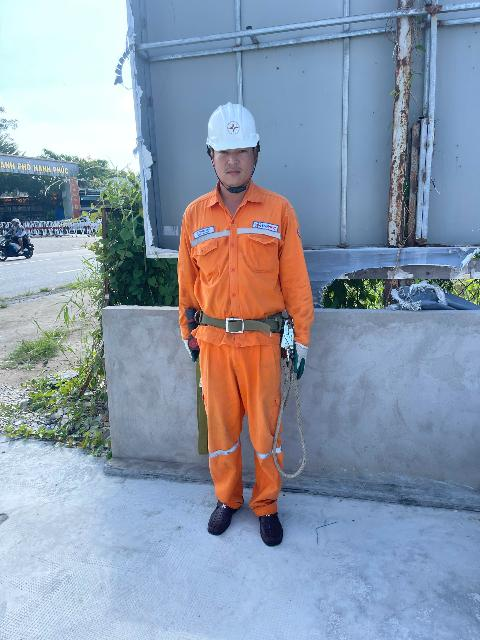gloves: (171, 314, 202, 362), (284, 341, 316, 386)
harness: (185, 298, 293, 343)
helmet: (195, 89, 274, 181)
shoes: (197, 487, 249, 547), (254, 498, 292, 558)
